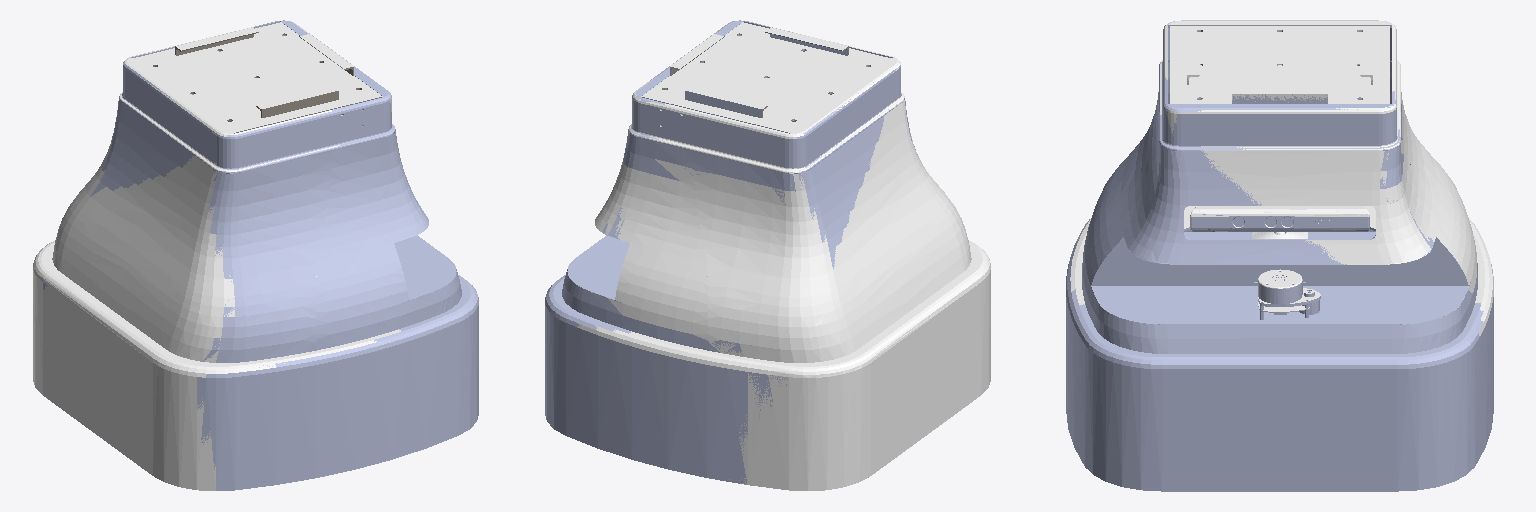
robot.urdf — URDF_Robot:
<?xml version="1.0" encoding="utf-8"?>
<!-- This URDF was automatically created by SolidWorks to URDF Exporter! Originally created by [author] ([email redacted]) 
     Commit Version: 1.5.1-0-g916b5db  Build Version: 1.5.7152.31018
     For more information, please see http://wiki.ros.org/sw_urdf_exporter -->
<robot
  name="URDF_Robot">
  <link    name="base_link">
    <inertial>
      <origin
        xyz="0.0045272 2.4147E-15 0.34647"
        rpy="0 0 0" />
      <mass
        value="8.4929" />
      <inertia
        ixx="0.055815"
        ixy="-6.4277E-05"
        ixz="2.5223E-06"
        iyy="0.062727"
        iyz="0.0014237"
        izz="0.073696" />
    </inertial>
    <visual>
      <origin
        xyz="0 0 0"
        rpy="0 0 0" />
      <geometry>
        <mesh
          filename="package://robot_diff/meshes/base_link.STL" />
      </geometry>
      <material
        name="">
        <color
          rgba="0.65098 0.61961 0.58824 1" />
      </material>
    </visual>
    <collision>
      <origin
        xyz="0 0 0"
        rpy="0 0 0" />
      <geometry>
        <mesh
          filename="package://robot_diff/meshes/base_link.STL" />
      </geometry>
    </collision>
  </link>
  <link    name="right_wheel">
    <inertial>
      <origin
        xyz="-1.1102E-16 -0.03 0"
        rpy="0 0 0" />
      <mass
        value="1.9224" />
      <inertia
        ixx="0.0063801"
        ixy="-4.796E-19"
        ixz="-1.062E-19"
        iyy="0.011839"
        iyz="6.3001E-19"
        izz="0.0063801" />
    </inertial>
    <visual>
      <origin
        xyz="0 0 0"
        rpy="0 0 0" />
      <geometry>
        <mesh
          filename="package://robot_diff/meshes/right_wheel.STL" />
      </geometry>
      <material
        name="">
        <color
          rgba="0.79216 0.81961 0.93333 1" />
      </material>
    </visual>
    <collision>
      <origin
        xyz="0 0 0"
        rpy="0 0 0" />
      <geometry>
        <mesh
          filename="package://robot_diff/meshes/right_wheel.STL" />
      </geometry>
    </collision>
  </link>
  <joint    name="joint_right_wheel"
    type="continuous">
    <origin
      xyz="0.00425 -0.24475 0.10979"
      rpy="0 0 0" />
    <parent
      link="base_link" />
    <child
      link="right_wheel" />
    <axis
      xyz="0 1 0" />
  </joint>
  <link    name="left_wheel">
    <inertial>
      <origin
        xyz="0 0.03 0"
        rpy="0 0 0" />
      <mass
        value="1.9224" />
      <inertia
        ixx="0.0063801"
        ixy="-1.3791E-19"
        ixz="-3.8919E-19"
        iyy="0.011839"
        iyz="-5.6319E-19"
        izz="0.0063801" />
    </inertial>
    <visual>
      <origin
        xyz="0 0 0"
        rpy="0 0 0" />
      <geometry>
        <mesh
          filename="package://robot_diff/meshes/left_wheel.STL" />
      </geometry>
      <material
        name="">
        <color
          rgba="0.79216 0.81961 0.93333 1" />
      </material>
    </visual>
    <collision>
      <origin
        xyz="0 0 0"
        rpy="0 0 0" />
      <geometry>
        <mesh
          filename="package://robot_diff/meshes/left_wheel.STL" />
      </geometry>
    </collision>
  </link>
  <joint    name="joint_left_wheel"
    type="continuous">
    <origin
      xyz="0.00675 0.24475 0.10979"
      rpy="0 0 0" />
    <parent
      link="base_link" />
    <child
      link="left_wheel" />
    <axis
      xyz="0 1 0" />
  </joint>
  <link    name="Carcasa">
    <inertial>
      <origin
        xyz="0.035854 0.045075 0.34163"
        rpy="0 0 0" />
      <mass
        value="12.342" />
      <inertia
        ixx="0.3505"
        ixy="2.0646E-06"
        ixz="-0.0035872"
        iyy="0.29139"
        iyz="-3.7841E-06"
        izz="0.39506" />
    </inertial>
    <visual>
      <origin
        xyz="0 0 0"
        rpy="0 0 0" />
      <geometry>
        <mesh
          filename="package://robot_diff/meshes/Carcasa.STL" />
      </geometry>
      <material
        name="">
        <color
          rgba="0.79216 0.81961 0.93333 1" />
      </material>
    </visual>
    <collision>
      <origin
        xyz="0 0 0"
        rpy="0 0 0" />
      <geometry>
        <mesh
          filename="package://robot_diff/meshes/Carcasa.STL" />
      </geometry>
    </collision>
  </link>
  <joint    name="joint_carcasa"
    type="fixed">
    <origin
      xyz="0 0 0.013293"
      rpy="0 0 0" />
    <parent
      link="base_link" />
    <child
      link="Carcasa" />
    <axis
      xyz="0 0 0" />
  </joint>
  <link    name="Lidar_link">
    <inertial>
      <origin
        xyz="9.1926E-05 -0.0074835 0.010668"
        rpy="0 0 0" />
      <mass
        value="1.3308" />
      <inertia
        ixx="0.0009607"
        ixy="8.0198E-07"
        ixz="3.0916E-06"
        iyy="0.00061492"
        iyz="0.00015824"
        izz="0.0010982" />
    </inertial>
    <visual>
      <origin
        xyz="0 0 0"
        rpy="0 0 0" />
      <geometry>
        <mesh
          filename="package://robot_diff/meshes/Lidar_link.STL" />
      </geometry>
      <material
        name="">
        <color
          rgba="0.79216 0.81961 0.93333 1" />
      </material>
    </visual>
    <collision>
      <origin
        xyz="0 0 0"
        rpy="0 0 0" />
      <geometry>
        <mesh
          filename="package://robot_diff/meshes/Lidar_link.STL" />
      </geometry>
    </collision>
  </link>
  <joint    name="joint_lidar"
    type="fixed">
    <origin
      xyz="0.2225 0.014498 0.30689"
      rpy="0 0 -1.5708" />
    <parent
      link="base_link" />
    <child
      link="Lidar_link" />
    <axis
      xyz="0 0 0" />
  </joint>
  <link    name="Kinect_link">
    <inertial>
      <origin
        xyz="0 0 0"
        rpy="0 0 0" />
      <mass
        value="0" />
      <inertia
        ixx="0"
        ixy="0"
        ixz="0"
        iyy="0"
        iyz="0"
        izz="0" />
    </inertial>
    <visual>
      <origin
        xyz="0 0 0"
        rpy="0 0 0" />
      <geometry>
        <mesh
          filename="package://robot_diff/meshes/Kinect_link.STL" />
      </geometry>
      <material
        name="">
        <color
          rgba="1 1 1 1" />
      </material>
    </visual>
    <collision>
      <origin
        xyz="0 0 0"
        rpy="0 0 0" />
      <geometry>
        <mesh
          filename="package://robot_diff/meshes/Kinect_link.STL" />
      </geometry>
    </collision>
  </link>
  <joint    name="joint_kinect"
    type="fixed">
    <origin
      xyz="0.174465135528564 0.00688258604257161 0.38554299031729"
      rpy="-1.5708 0 -1.5708" />
    <parent
      link="base_link" />
    <child
      link="Kinect_link" />
    <axis
      xyz="0 0 0" />
  </joint>
</robot>

--- What the picture shows (computed from the rendered views, not written in the file) ---
3 views of the same robot in one strip: view 1: azimuth 30°, elevation 25°; view 2: azimuth 150°, elevation 25°; view 3: azimuth 270°, elevation 25° (orthographic).
Robot: URDF_Robot — 6 links, 5 joints (2 continuous, 3 fixed); root link base_link; default pose: every joint at zero.
Visible links, largest first — view 1: Carcasa, Kinect_link, base_link; view 2: Kinect_link, Lidar_link, Carcasa; view 3: Lidar_link, Carcasa, Kinect_link.
Link boxes in pixels (x1,y1,x2,y2): Carcasa: (43,20,478,490); Kinect_link: (33,21,400,490); base_link: (153,32,381,133); Kinect_link: (577,22,990,490); Lidar_link: (545,21,904,483); Carcasa: (546,20,917,333); Lidar_link: (1126,25,1493,491); Carcasa: (1066,25,1483,487); Kinect_link: (1070,20,1493,335).
Size in the robot's own frame: 0.614 by 0.6672 by 0.622 metres.
6 mesh visuals loaded from 6 distinct referenced files (6 binary STL).